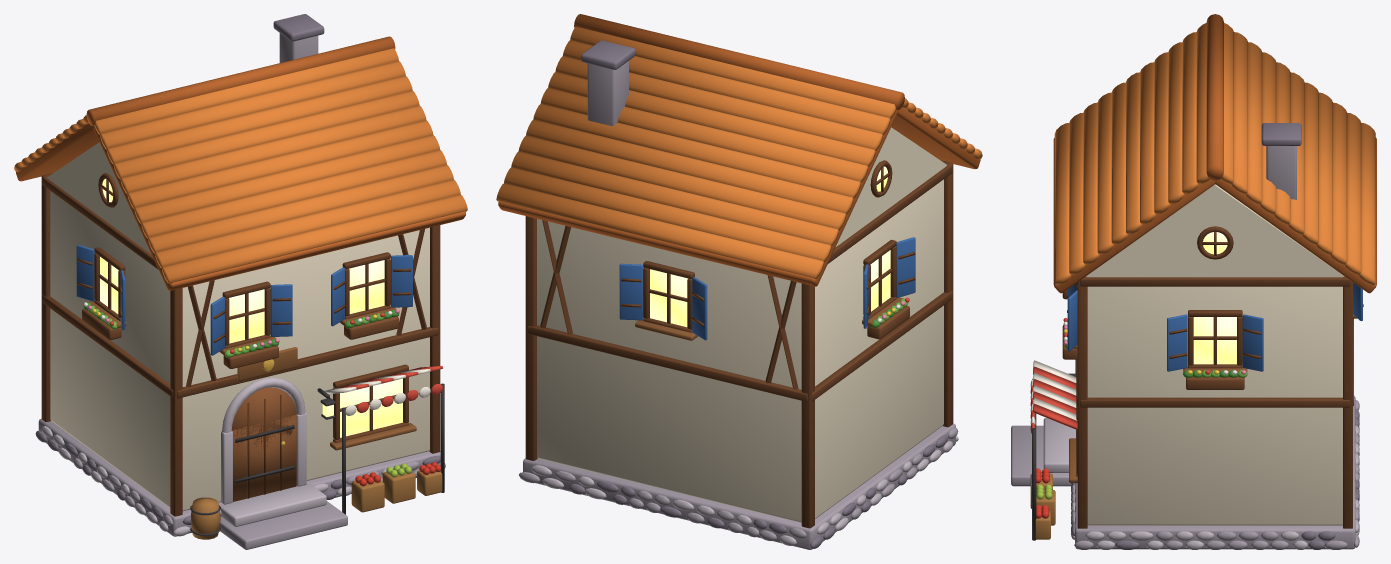
Rendered from bld_shop_orange_v02.glb.
3 views of the same model, side by side, from view 1: azimuth 30°, elevation 25°; view 2: azimuth 150°, elevation 25°; view 3: azimuth 270°, elevation 25° (orthographic). The views are drawn at different scales.
Parts seen in each view (by area): view 1: bld_shop_orange_v02; view 2: bld_shop_orange_v02; view 3: bld_shop_orange_v02.
Boxes of the visible parts, <box> form: bld_shop_orange_v02: <box>14,14,467,549</box>; bld_shop_orange_v02: <box>496,14,982,549</box>; bld_shop_orange_v02: <box>1011,14,1376,549</box>.
Size of the model in its own units: 7 by 8.66 by 7.16.
Materials: 2 (1 with a texture image).
